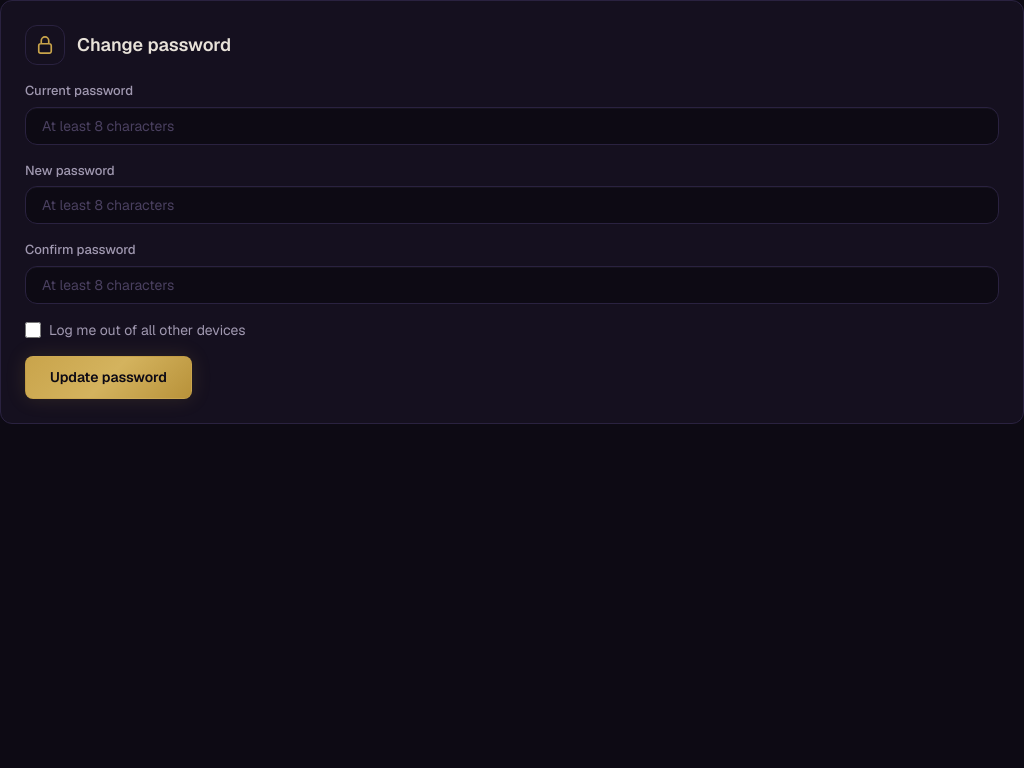
ChangePasswordSettings › changes the password, refreshes the profile, and clears the fields on success
The width and height of the screenshot is (1024, 768).
Type "OldPass123!" into the password field labelled "Current password" at (512, 126), box top-left (25, 106), bottom-right (999, 145)
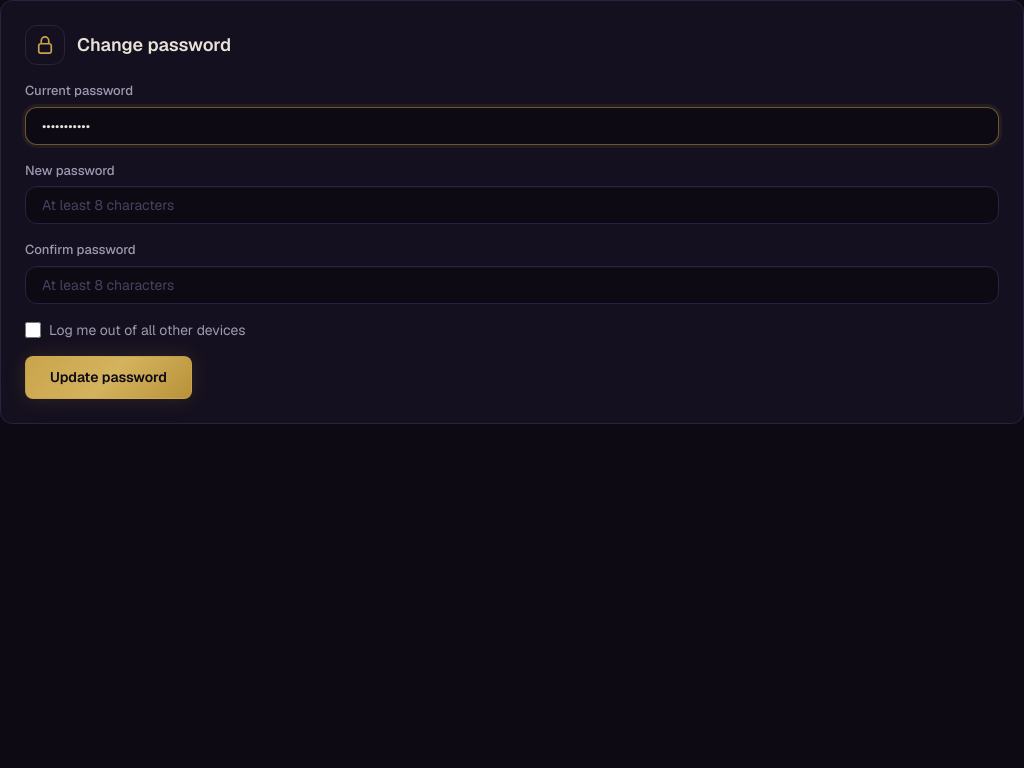
Type "NewPass123!" into the password field labelled "New password" at (512, 205), box top-left (25, 186), bottom-right (999, 224)
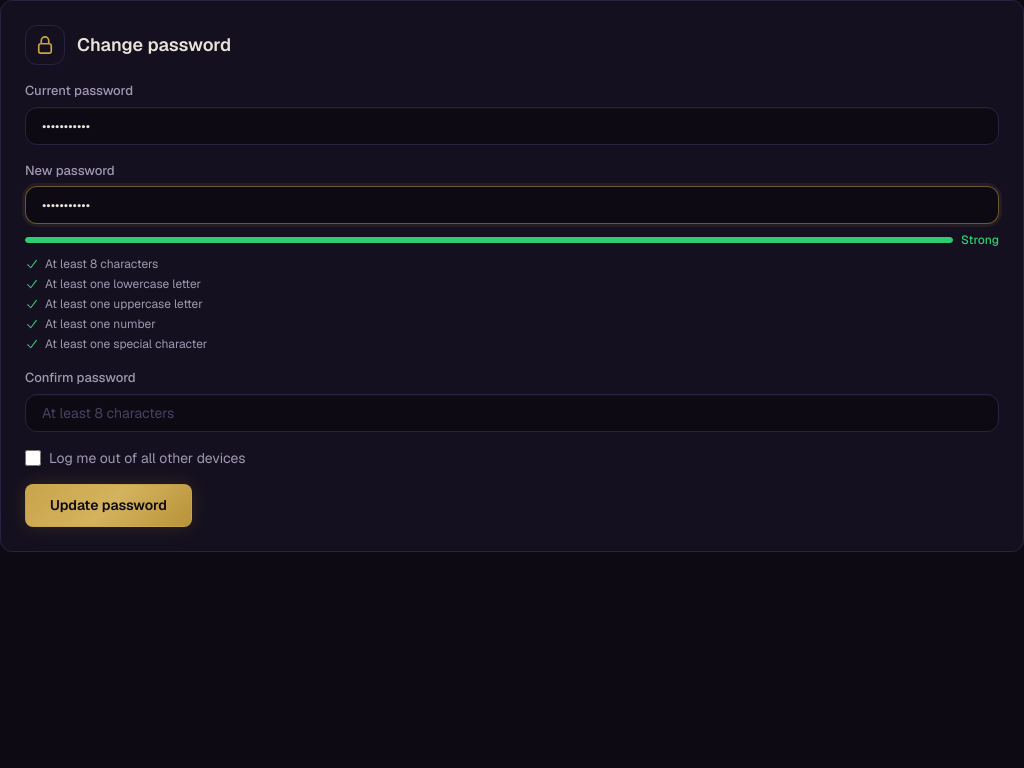
Type "NewPass123!" into the password field labelled "Confirm password" at (512, 413), box top-left (25, 394), bottom-right (999, 432)
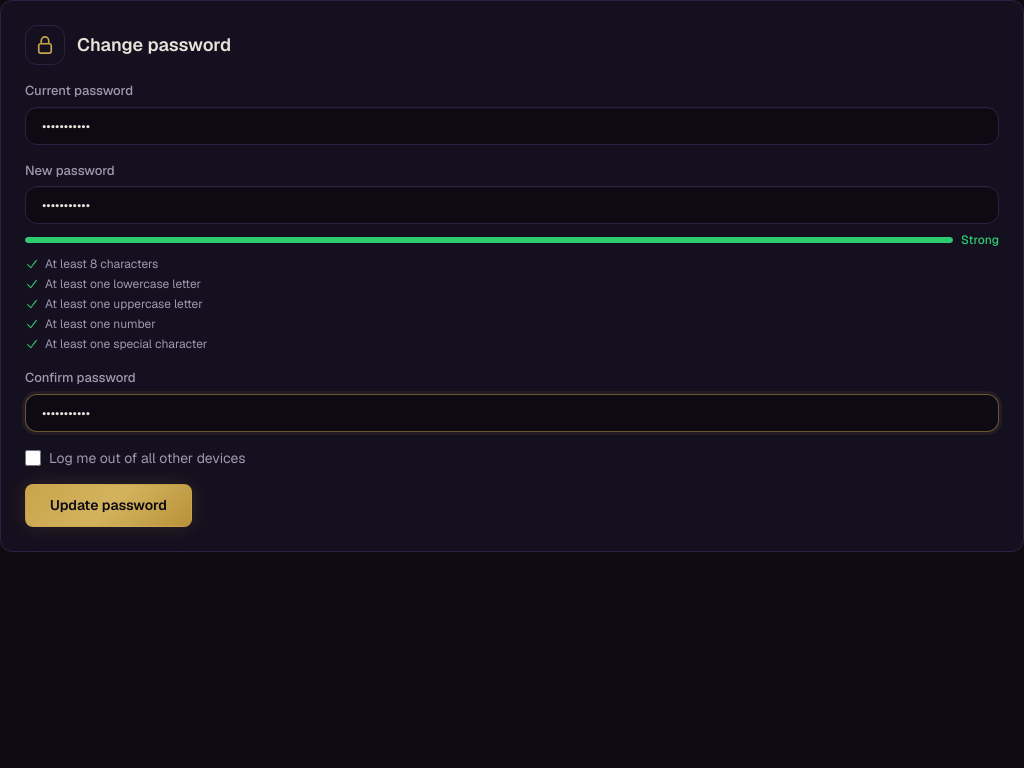
Click the button "Update password" at (108, 505), box top-left (25, 484), bottom-right (192, 527)
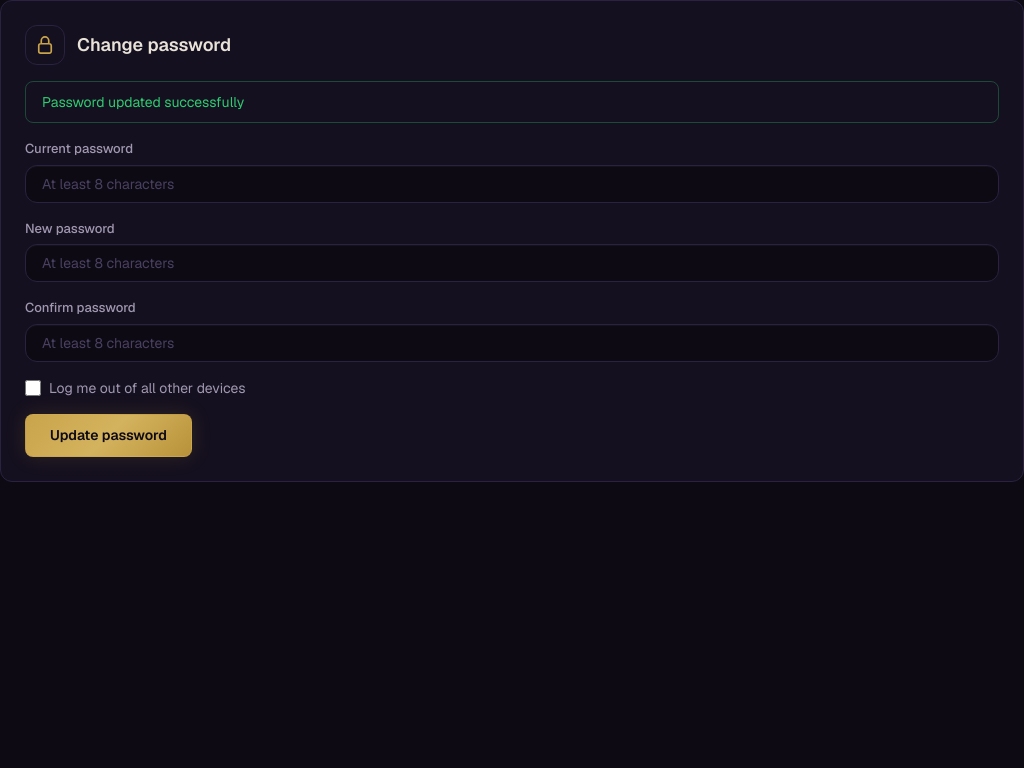
Now the text "Password updated successfully" is shown, box top-left (25, 81), bottom-right (999, 123)
Now the password field labelled "Current password" is empty, box top-left (25, 164), bottom-right (999, 203)
Now the password field labelled "New password" is empty, box top-left (25, 244), bottom-right (999, 282)
